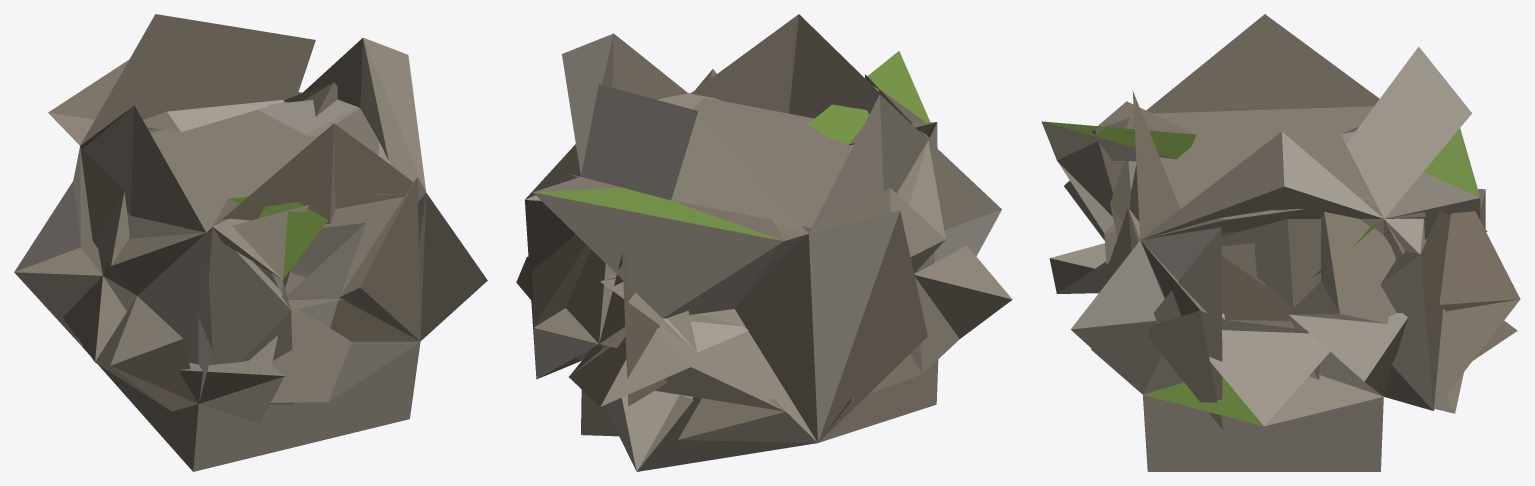
The model's file is ChunkGranite_a.fbx.
The picture shows the model from 3 angles, left to right: view 1: azimuth 30°, elevation 25°; view 2: azimuth 150°, elevation 25°; view 3: azimuth 270°, elevation 25°; orthographic projection. The views are drawn at different scales.
Parts seen in each view (by area): view 1: ChunkGranite_a; view 2: ChunkGranite_a; view 3: ChunkGranite_a.
Boxes of the visible parts, box(x1,y1,x2,y2) form: ChunkGranite_a: box(14, 14, 487, 471); ChunkGranite_a: box(516, 14, 1012, 471); ChunkGranite_a: box(1041, 14, 1520, 471).
Size of what is drawn, in the model's own units: 0.4609 by 0.3975 by 0.4785.
